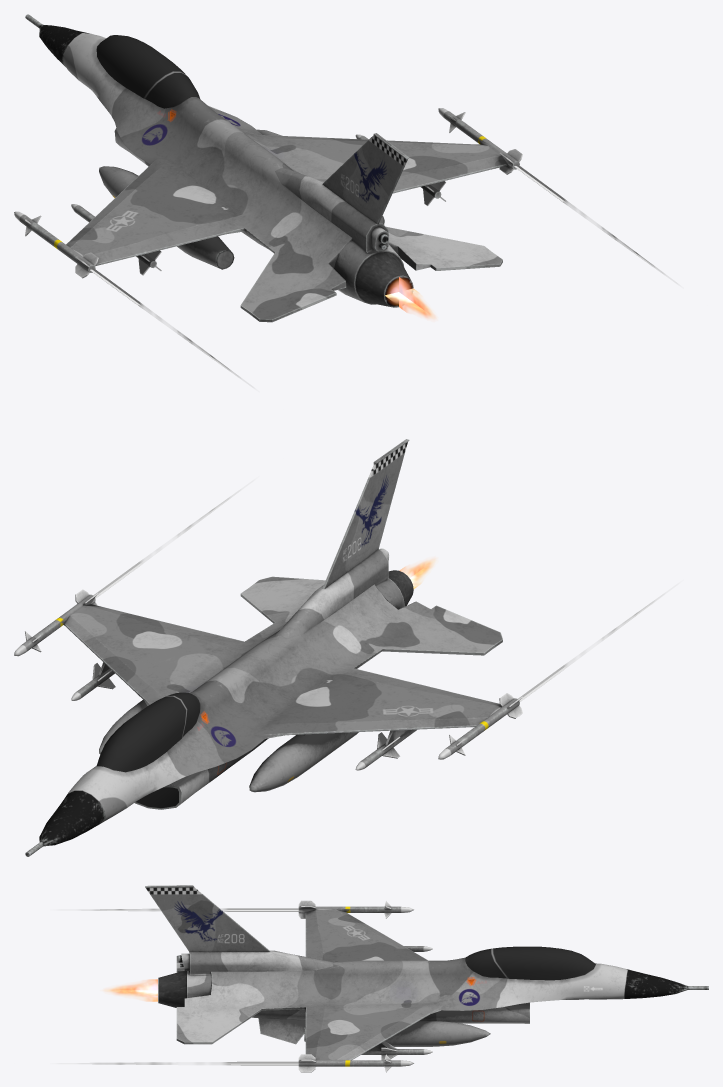
3 views of the same model, one above another, from view 1: azimuth 30°, elevation 25°; view 2: azimuth 150°, elevation 25°; view 3: azimuth 270°, elevation 25° (orthographic). The views are drawn at different scales.
Parts seen in each view (by area): view 1: pPlane7; view 2: pPlane7; view 3: pPlane7.
Boxes of the visible parts, x1=… form: pPlane7: x1=14, y1=14, x2=678, y2=388; pPlane7: x1=14, y1=439, x2=678, y2=856; pPlane7: x1=58, y1=885, x2=708, y2=1072.
Bounding box in the file's own units: 6.38 × 2.75 × 11.73.
1 material, 1 textured.
